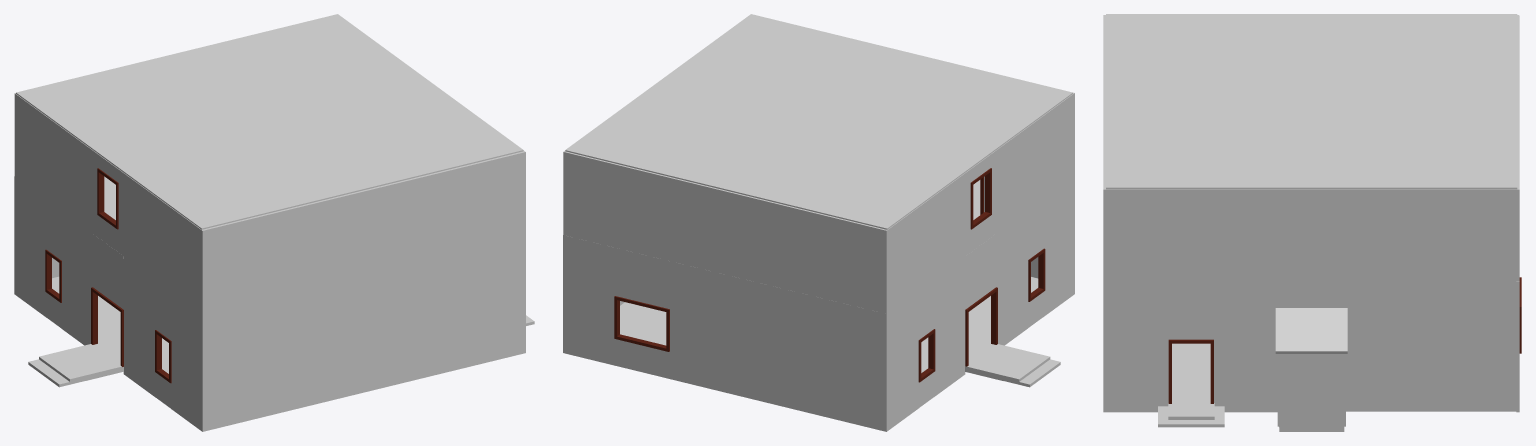
File: Casa_V.fbx
3 views of the same model, side by side, from view 1: azimuth 30°, elevation 25°; view 2: azimuth 150°, elevation 25°; view 3: azimuth 270°, elevation 25° (orthographic). The views are drawn at different scales.
Visible parts, largest first — view 1: Teto, Cube__36_, Cube__30__1, Cube__23__1, Cube__34_, Cube__35_, Cube__14__2, Cube__20__2, Cube__19__2, Cube__16__2, Cube__24__1, Cube__6_ (+5 smaller); view 2: Teto, Cube__39_, Cube__15__2, Cube__25__1, Cube__35_, Cube__34_, Cube__26__1, Cube__14__2, Cube__16__2, Cube__20__2, Cube__19__2, Cube__6_ (+8 smaller); view 3: Teto, Cube__40_, Cube__41_, Cube__31__1, Cube__32_, Cube__16__1, Cube__19__1, Cube__33_, Cube__6_, Cube__20__1, Cube__36_, Cube__39_ (+3 smaller).
Boxes of the visible parts, x1,y1,x2,y2 form: Teto: (16, 14, 523, 229); Cube__36_: (204, 151, 525, 314); Cube__30__1: (336, 236, 525, 399); Cube__23__1: (202, 282, 336, 431); Cube__34_: (118, 169, 205, 314); Cube__35_: (14, 93, 98, 237); Cube__14__2: (14, 176, 46, 317); Cube__20__2: (170, 291, 202, 431); Cube__19__2: (123, 256, 156, 397); Cube__16__2: (61, 211, 93, 345); Cube__24__1: (93, 237, 123, 309); Cube__6_: (52, 276, 168, 373); Teto: (565, 14, 1072, 229); Cube__39_: (563, 151, 885, 313); Cube__15__2: (752, 281, 886, 431); Cube__25__1: (668, 261, 752, 398); Cube__35_: (884, 169, 971, 313); Cube__34_: (990, 92, 1074, 237); Cube__26__1: (563, 235, 616, 365); Cube__14__2: (886, 291, 918, 431); Cube__16__2: (934, 257, 965, 396); Cube__20__2: (1043, 176, 1074, 317); Cube__19__2: (996, 211, 1028, 345); Cube__6_: (620, 277, 1038, 372); Teto: (1106, 14, 1517, 189); Cube__40_: (1104, 188, 1519, 282); Cube__41_: (1345, 281, 1516, 411); Cube__31__1: (1105, 281, 1170, 412); Cube__32_: (1213, 281, 1278, 412); Cube__16__1: (1279, 354, 1343, 427); Cube__19__1: (1275, 308, 1347, 353); Cube__33_: (1165, 281, 1213, 339); Cube__6_: (1172, 343, 1210, 402); Cube__20__1: (1277, 283, 1345, 307); Cube__36_: (1103, 16, 1106, 282); Cube__39_: (1516, 16, 1519, 281).
Bounding box in the file's own units: 1637 × 721 × 1222.
